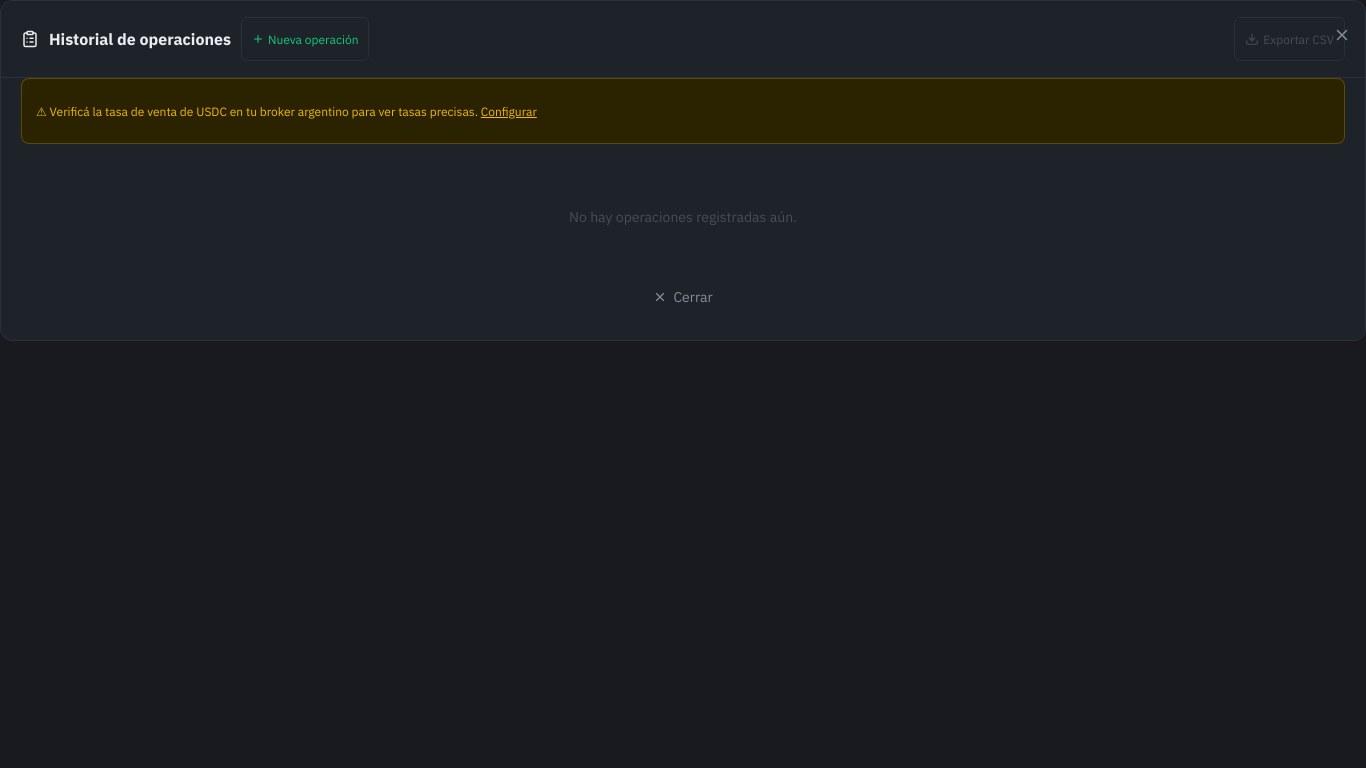
Scenario: New entry modal › modal de creación aparece al hacer click en "+ Nueva operación"
Click the button "Nueva operación": [305, 39] box [241, 17, 369, 61]
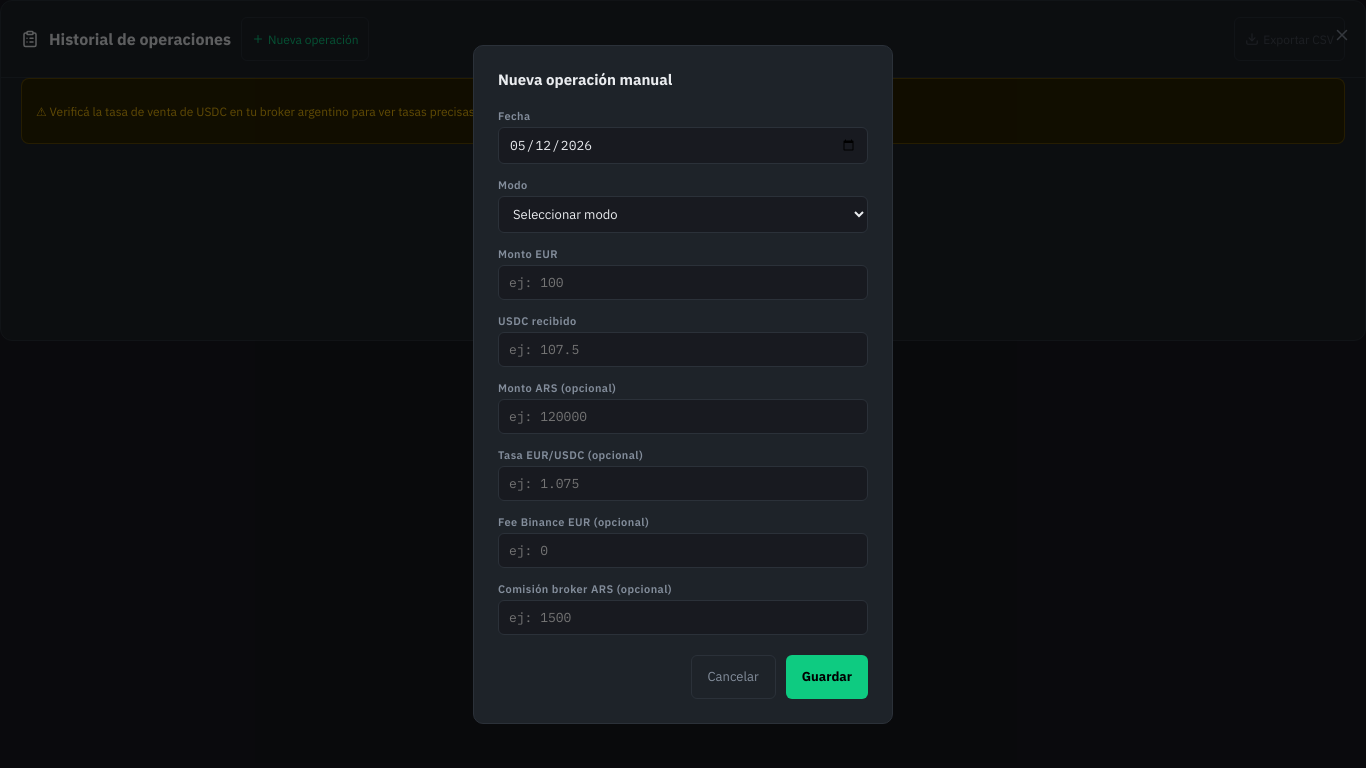
Result: the dialog is shown at [473, 44, 893, 724]
